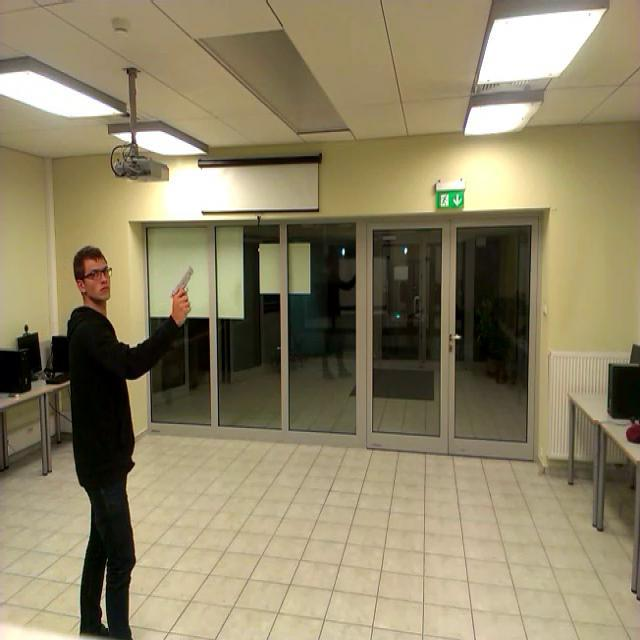Gun: (168, 265, 193, 306)
